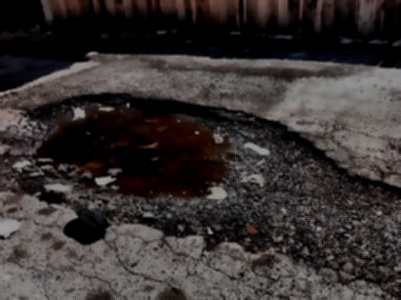pothole: (14, 89, 352, 281)
